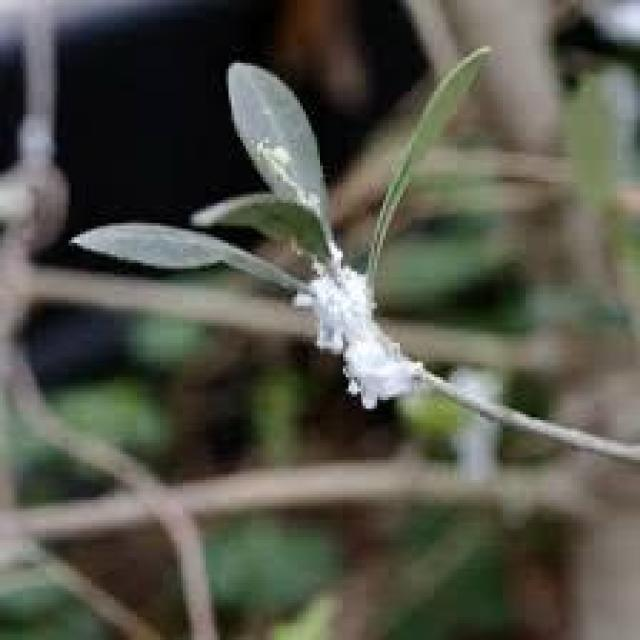Psyllid: (286, 248, 452, 394)
